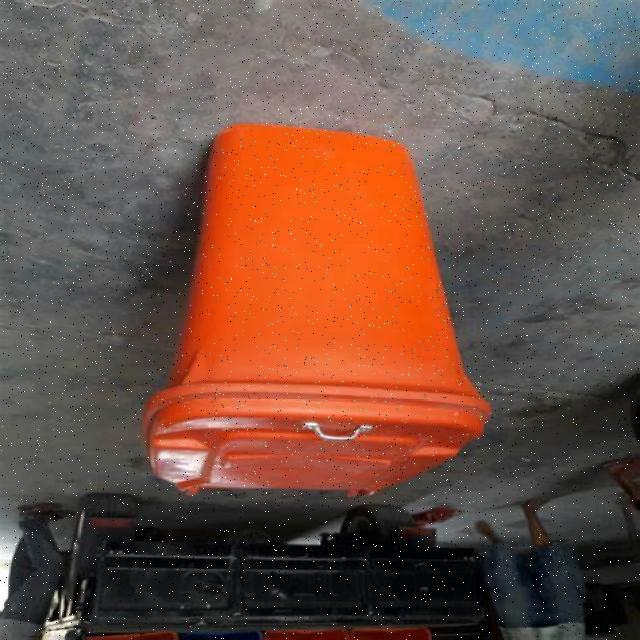garbage container: (126, 115, 522, 519)
